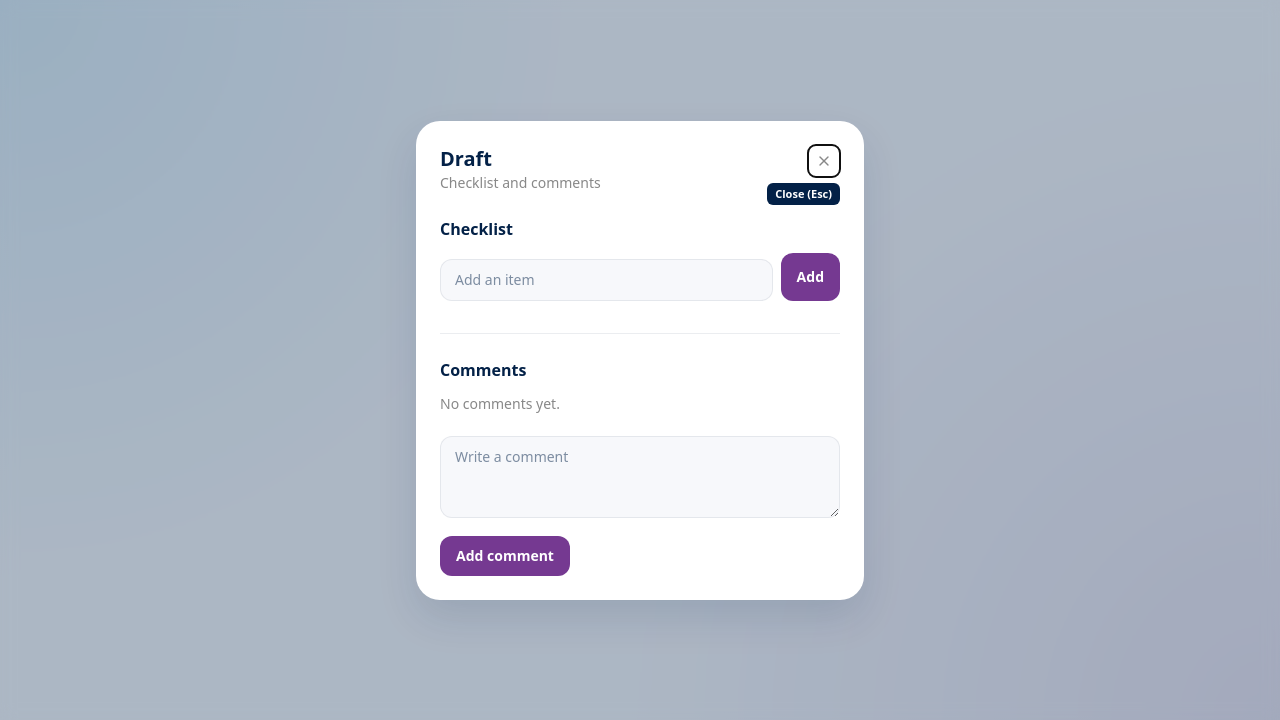
Test: CardDialog › keeps a draft and shows an error when a change fails
Type "Keep me" into the text box named "New comment" at (640, 476), box [440,436,840,518]
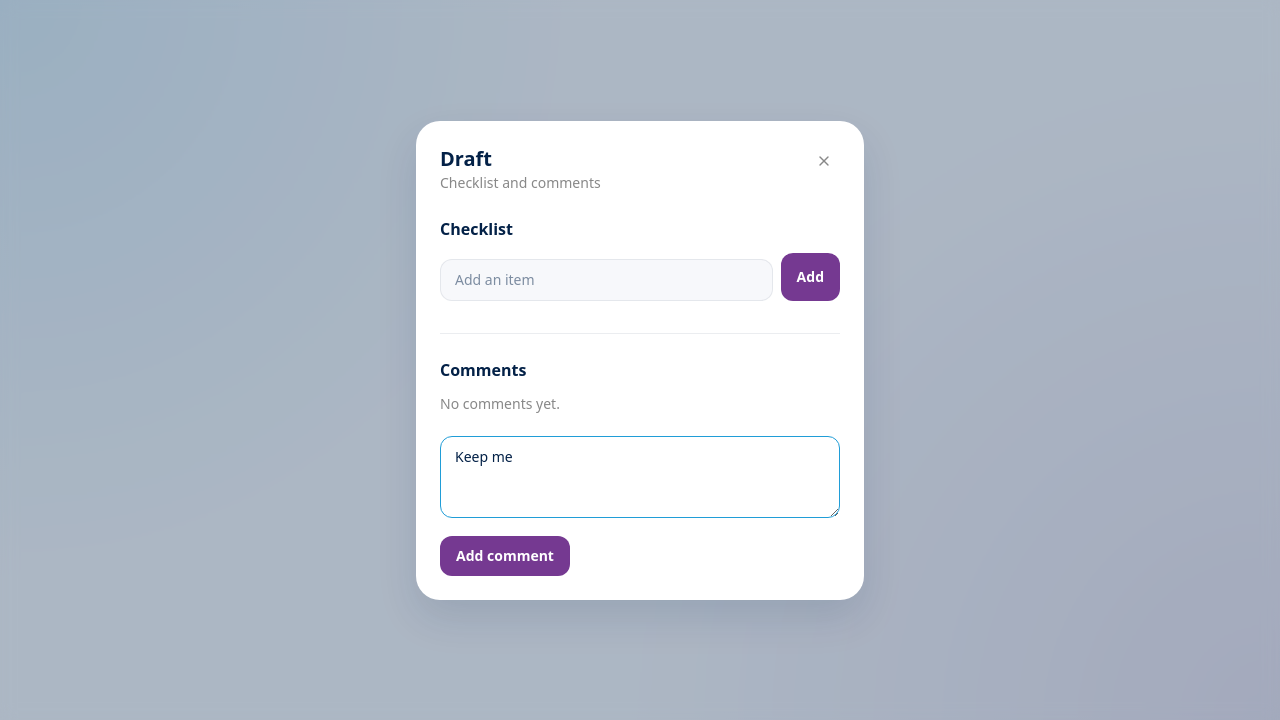
Click the button "Add comment" at (505, 556), box [440,536,570,576]
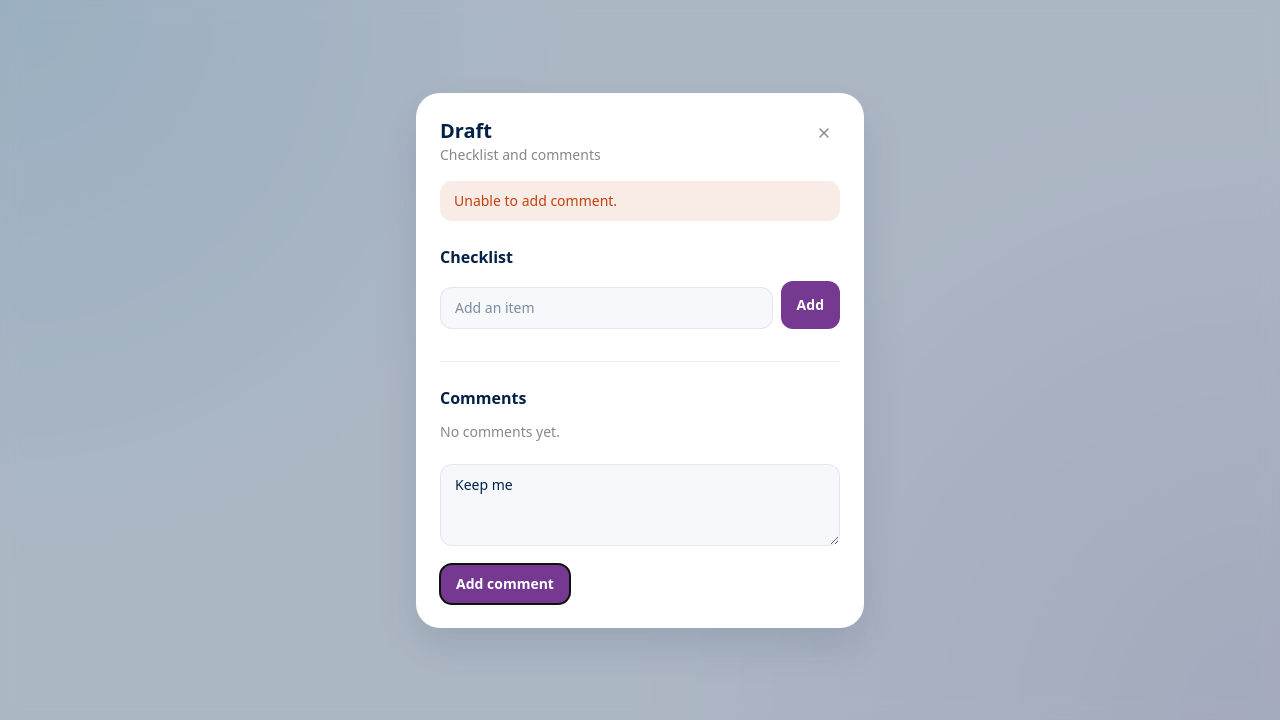
Result: the message reads "Unable to add comment." at [454,190,617,210]
Type "Step" into the field named "New checklist item" at (606, 308), box [440,286,773,328]
Then press Enter
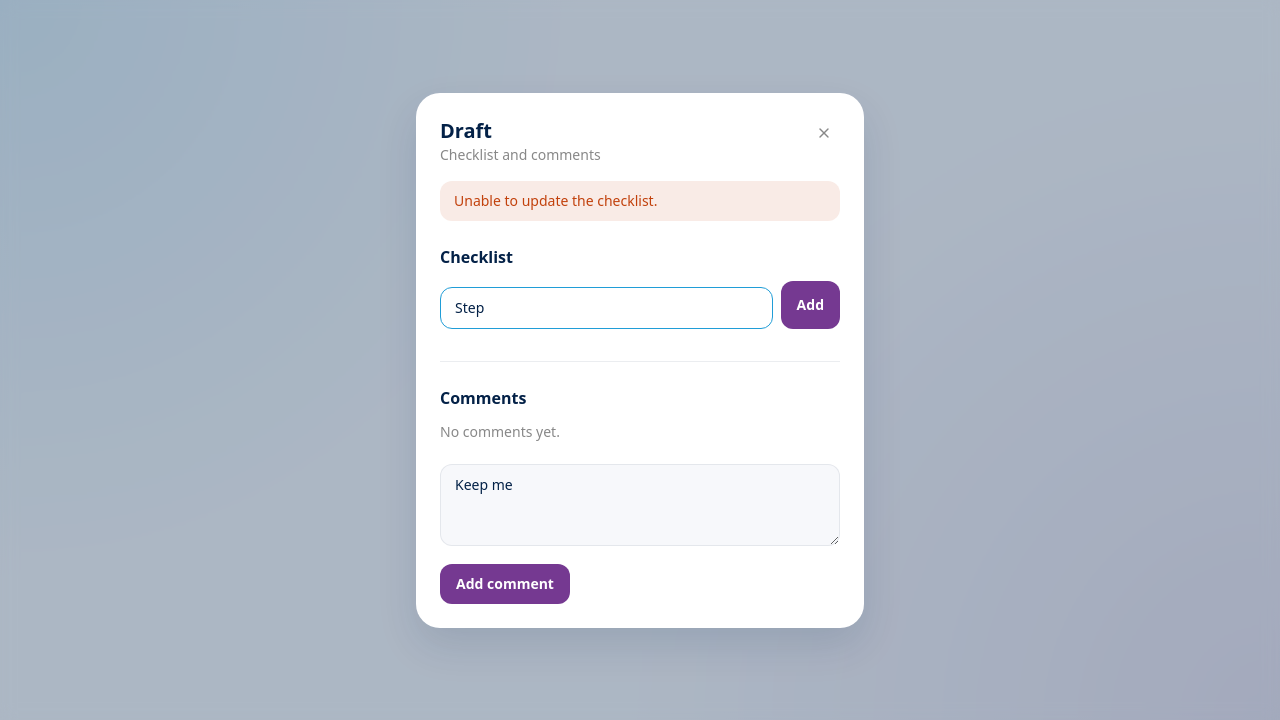
Result: the message reads "Unable to update the checklist." at [454,190,657,210]
